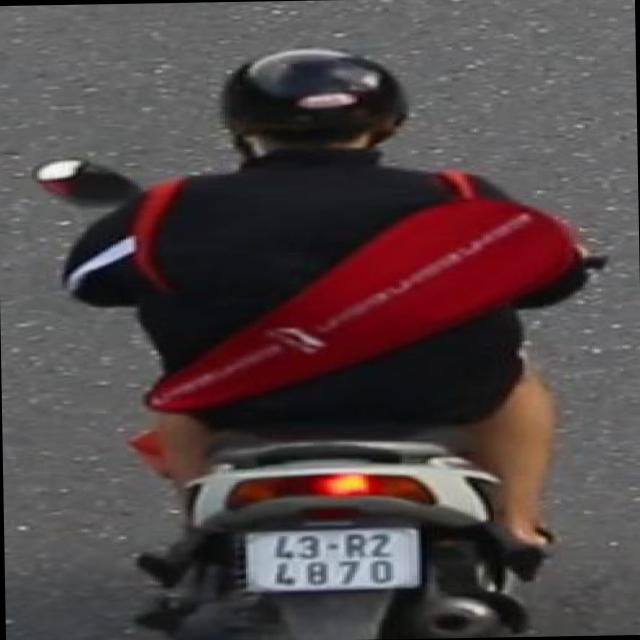LP: (236, 522, 428, 596)
helmet: (212, 42, 422, 176)
